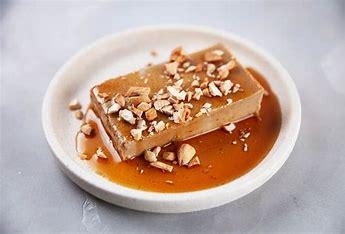Watalappam: (72, 36, 267, 196)
